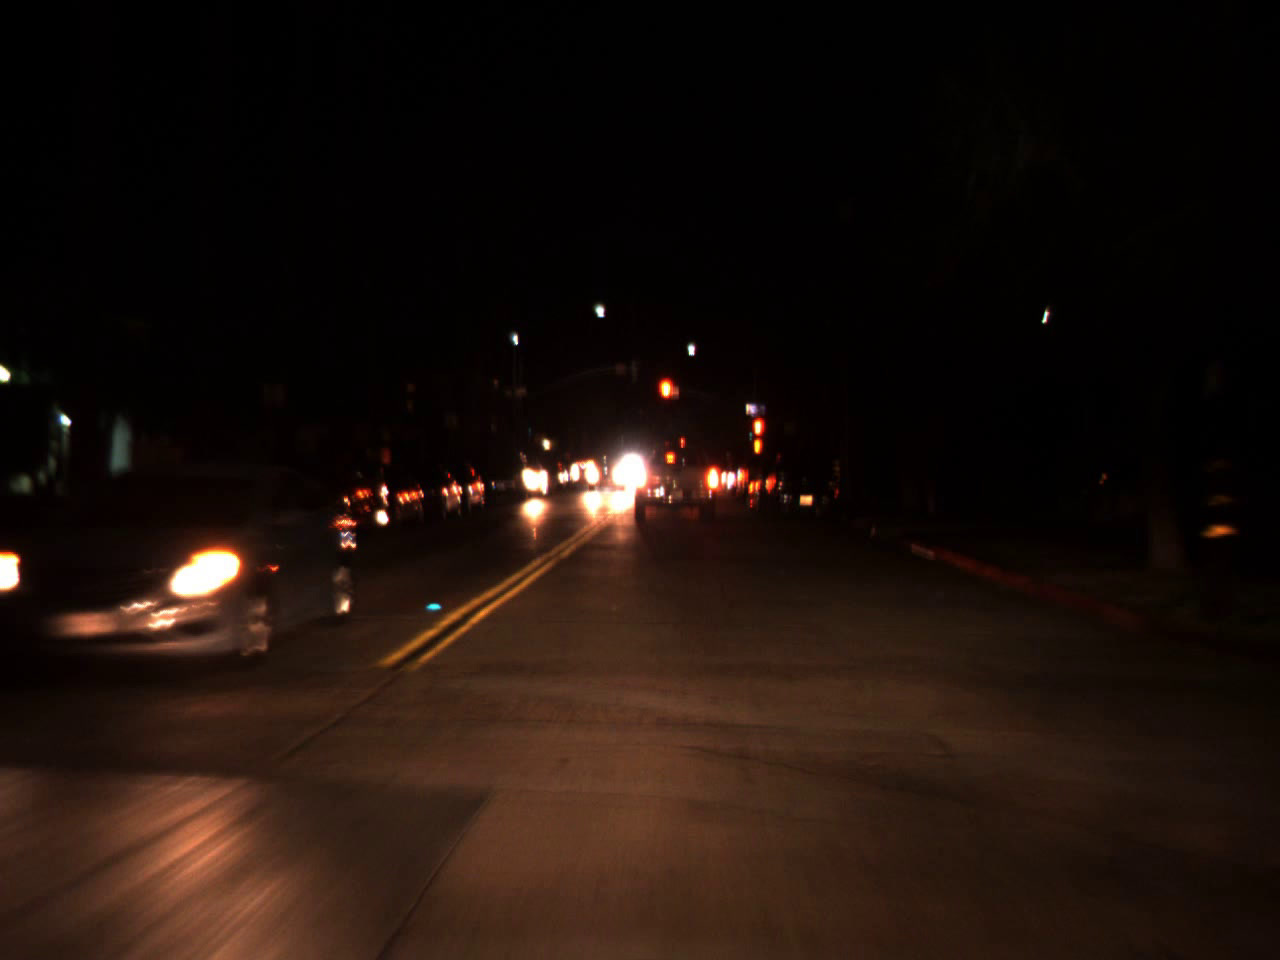stop: (656, 375, 680, 423), (751, 413, 766, 461)
